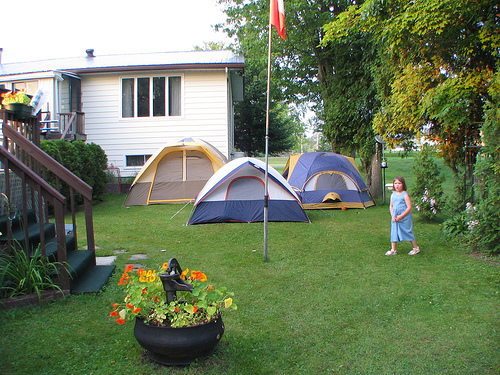without_mask: (392, 176, 408, 195)
